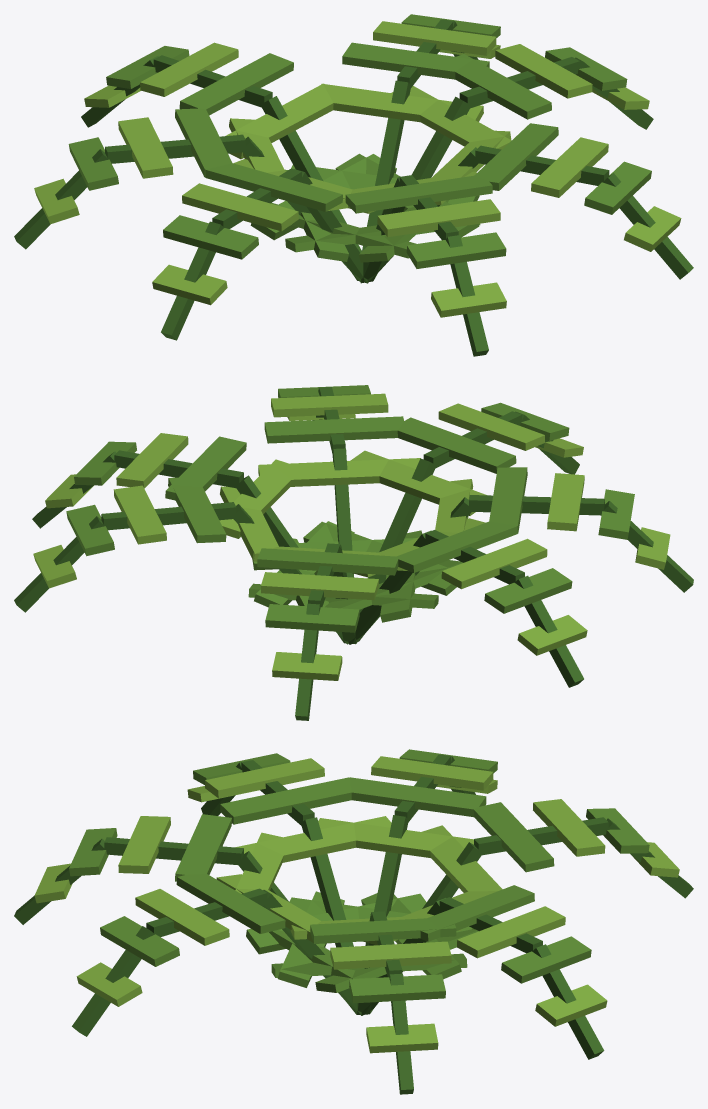
The model's file is Tree_Fern_A.fbx.
The picture shows the model from 3 angles, top to bottom: view 1: azimuth 30°, elevation 25°; view 2: azimuth 150°, elevation 25°; view 3: azimuth 270°, elevation 25°; orthographic projection. The views are drawn at different scales.
Parts seen in each view (by area): view 1: Tree_Fern_A; view 2: Tree_Fern_A; view 3: Tree_Fern_A.
Part boxes in pixels (<box>): Tree_Fern_A: <box>14,14,693,356</box>; Tree_Fern_A: <box>14,385,693,720</box>; Tree_Fern_A: <box>14,749,693,1094</box>.
Size of the model in its own units: 1.58 by 0.3909 by 1.56.
